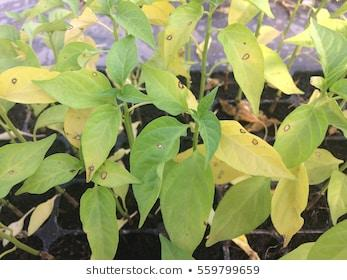Bell_pepper leaf: (128, 117, 187, 230), (214, 118, 297, 179), (218, 23, 263, 116), (1, 131, 55, 200), (275, 102, 328, 170), (159, 4, 206, 74), (31, 70, 114, 108), (81, 104, 120, 183), (18, 154, 84, 197), (140, 63, 189, 113)
